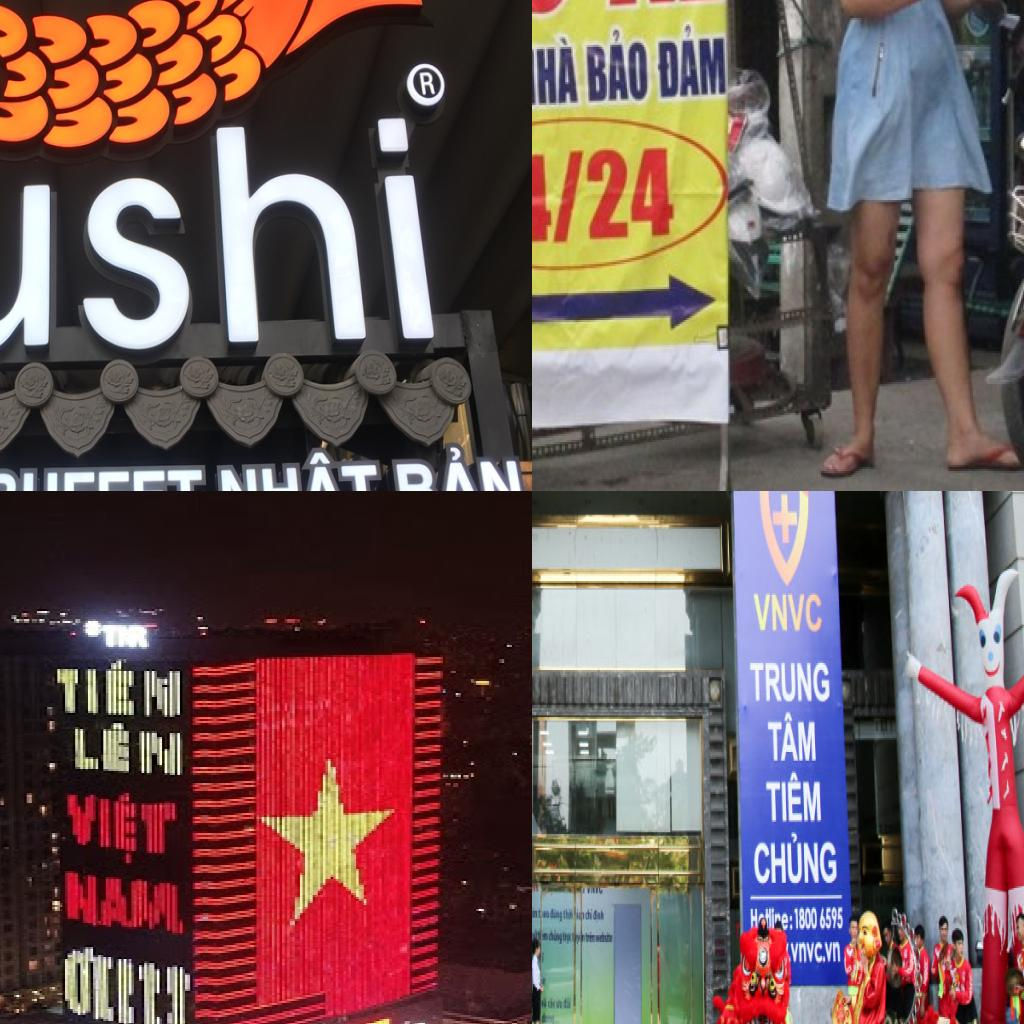text: (0, 116, 437, 360), (62, 863, 188, 943), (65, 785, 182, 871), (47, 655, 188, 723), (584, 146, 678, 246), (214, 445, 388, 491), (387, 440, 531, 491), (70, 721, 188, 779), (655, 22, 729, 103), (0, 464, 210, 491), (585, 26, 654, 105), (753, 827, 839, 886), (748, 660, 833, 708), (532, 32, 580, 113), (751, 588, 824, 637), (551, 152, 587, 246), (764, 769, 822, 827), (766, 710, 820, 764), (532, 150, 554, 249), (770, 494, 800, 546), (792, 938, 842, 964), (794, 906, 818, 934), (819, 904, 843, 932), (98, 623, 121, 651), (419, 71, 438, 97), (595, 930, 614, 946), (749, 904, 759, 933), (550, 906, 563, 924), (593, 907, 606, 925), (562, 906, 574, 924), (781, 911, 789, 933), (586, 930, 596, 946), (788, 911, 794, 935), (563, 930, 572, 946), (563, 996, 572, 1012), (586, 905, 593, 923), (556, 998, 563, 1012), (541, 949, 546, 967), (541, 974, 546, 989)
